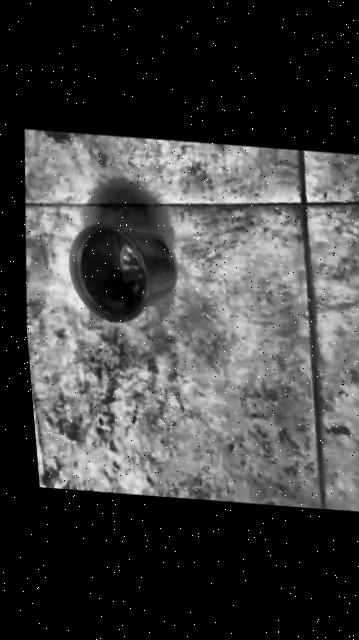pot: (61, 221, 182, 326)
